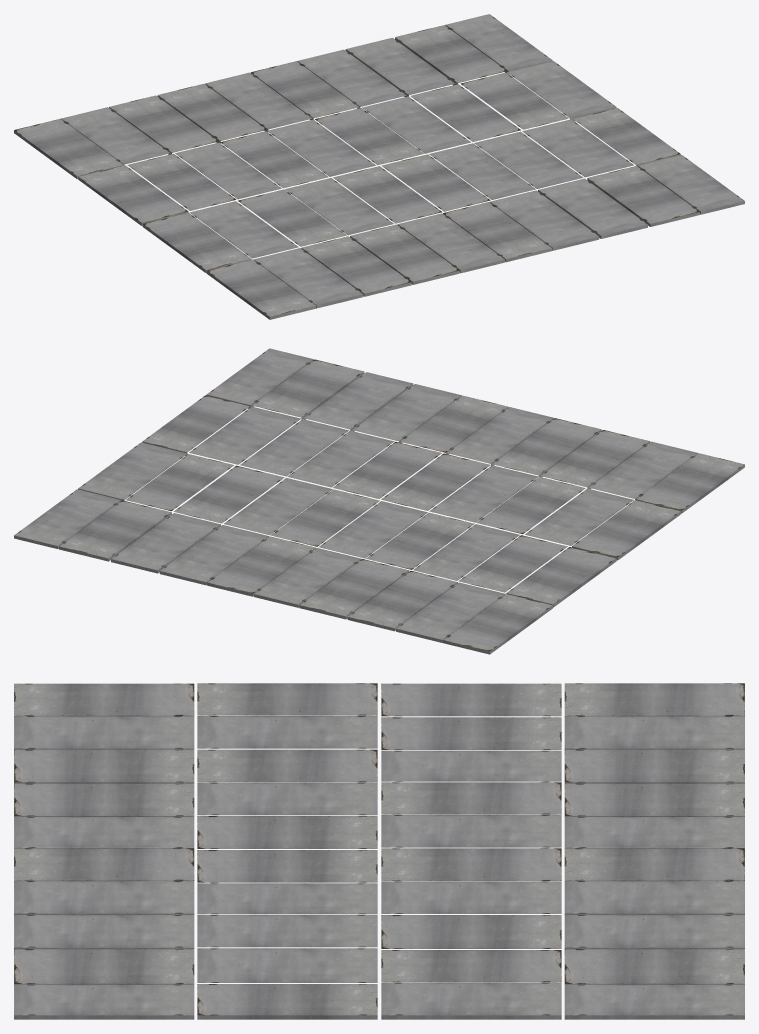
The model's file is plant-road-plan.glb.
3 views of the same model, one above another, from view 1: azimuth 30°, elevation 25°; view 2: azimuth 150°, elevation 25°; view 3: azimuth 270°, elevation 25° (orthographic). The views are drawn at different scales.
Parts seen in each view (by area): view 1: Object8935801; view 2: Object8935801; view 3: Object8935801.
Boxes of the visible parts, bbox=[...] form: Object8935801: bbox=[14, 14, 744, 319]; Object8935801: bbox=[14, 348, 744, 654]; Object8935801: bbox=[14, 683, 744, 1019].
Bounding box in the file's own units: 27.72 × 0.1721 × 25.79.
1 material, 1 textured.
